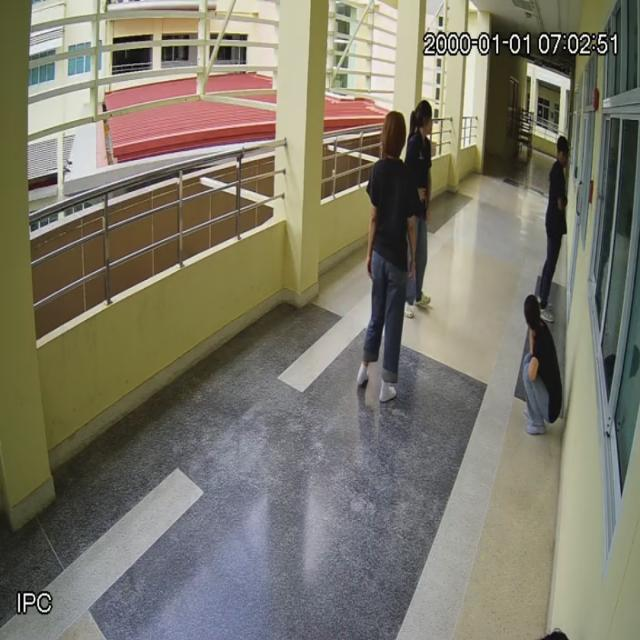normal: (360, 112, 414, 404), (400, 92, 446, 318), (538, 121, 584, 325), (518, 288, 566, 444)
